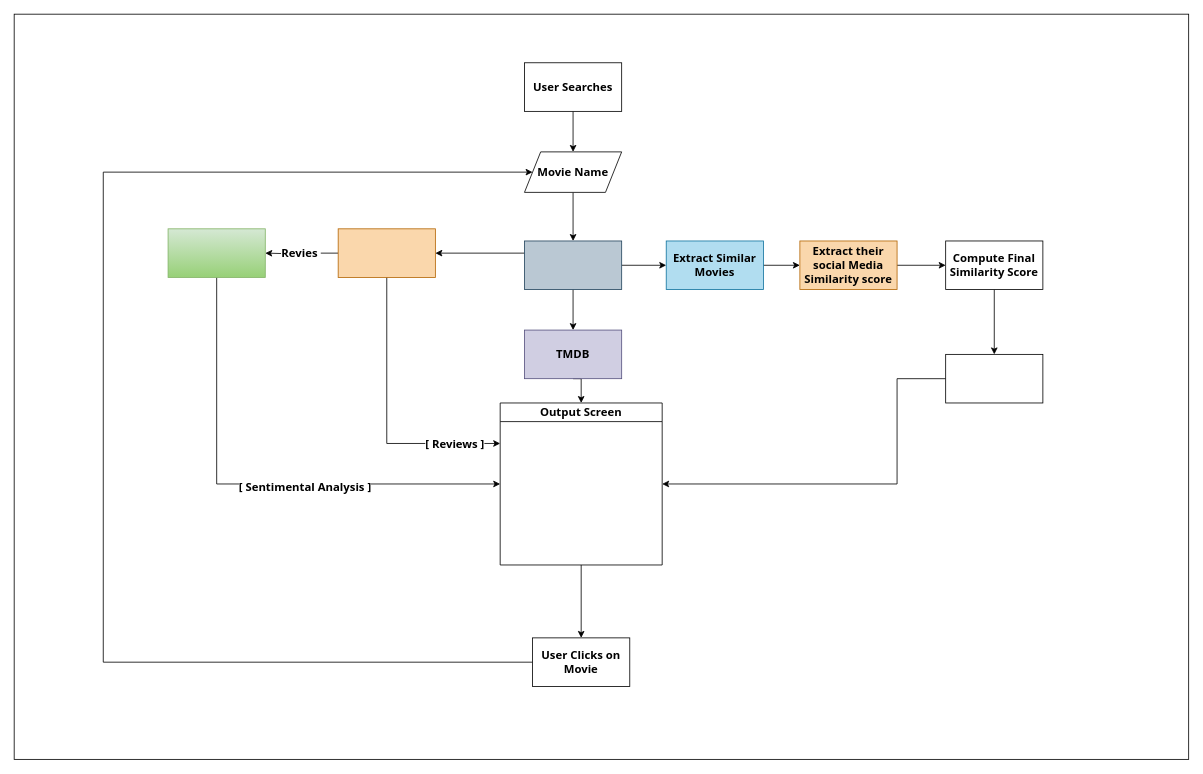
This 1203x774 diagram has some shape labels left out. Each missing label, with the centre of its shape:
Backend: [573,265]
Get Sentimental Analysis: [216,252]
IMDB Tweeter Yotube: [386,252]
Rank Movies: [994,378]
